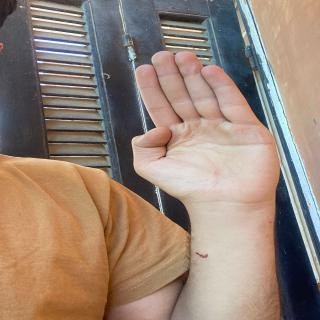SEEN: (109, 52, 282, 205)
